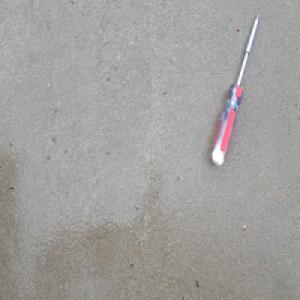Screwdriver: (209, 11, 259, 169)
